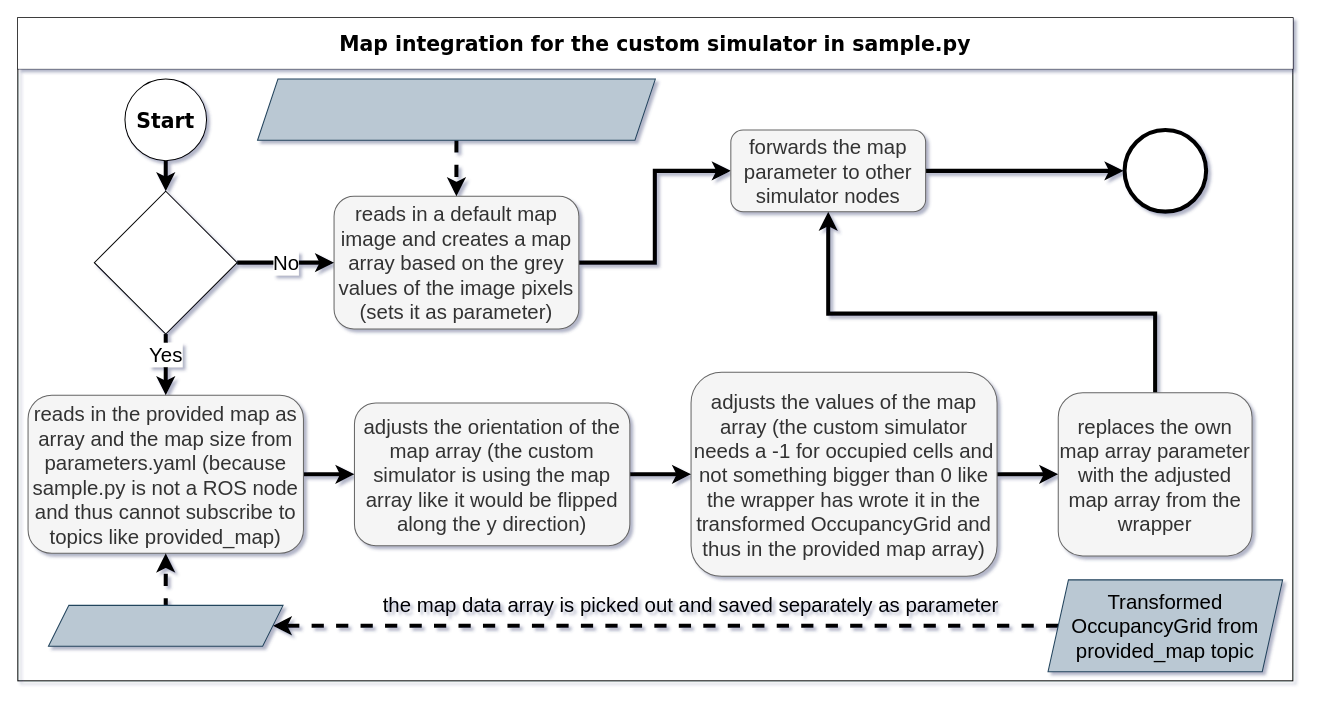
The diagram is 1317 pixels wide and 705 high, and some of its shapes have lost their labels. The shapes that lost their labels are listed below. From the top down, each one's centre as x and y in pixels, then its label:
At (456,109): "Old map image (static_map.pgm) of the custom simulator".
At (1165,170): "End".
At (165,262): "wrapper active?".
At (165,625): "parameters.yaml".
